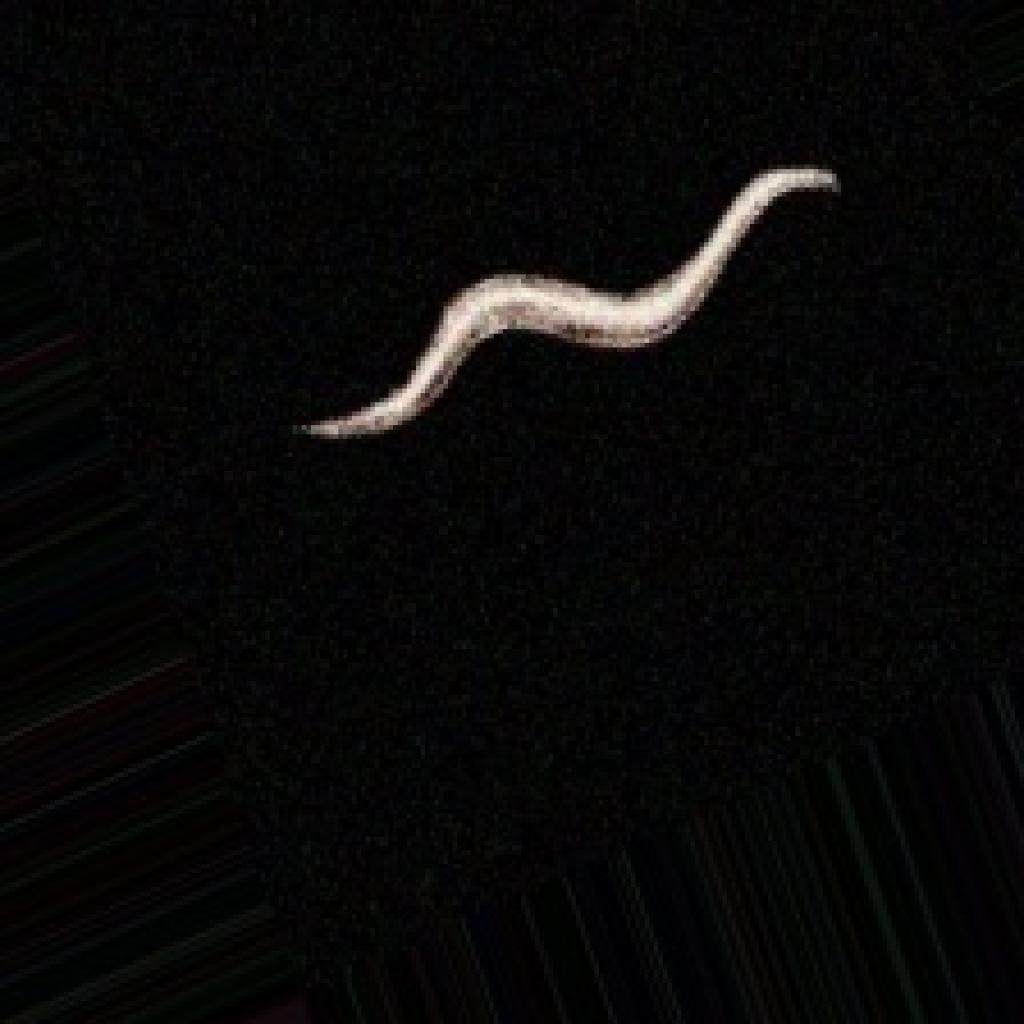Nematode: (0, 0, 1019, 1019), (284, 156, 841, 444)
